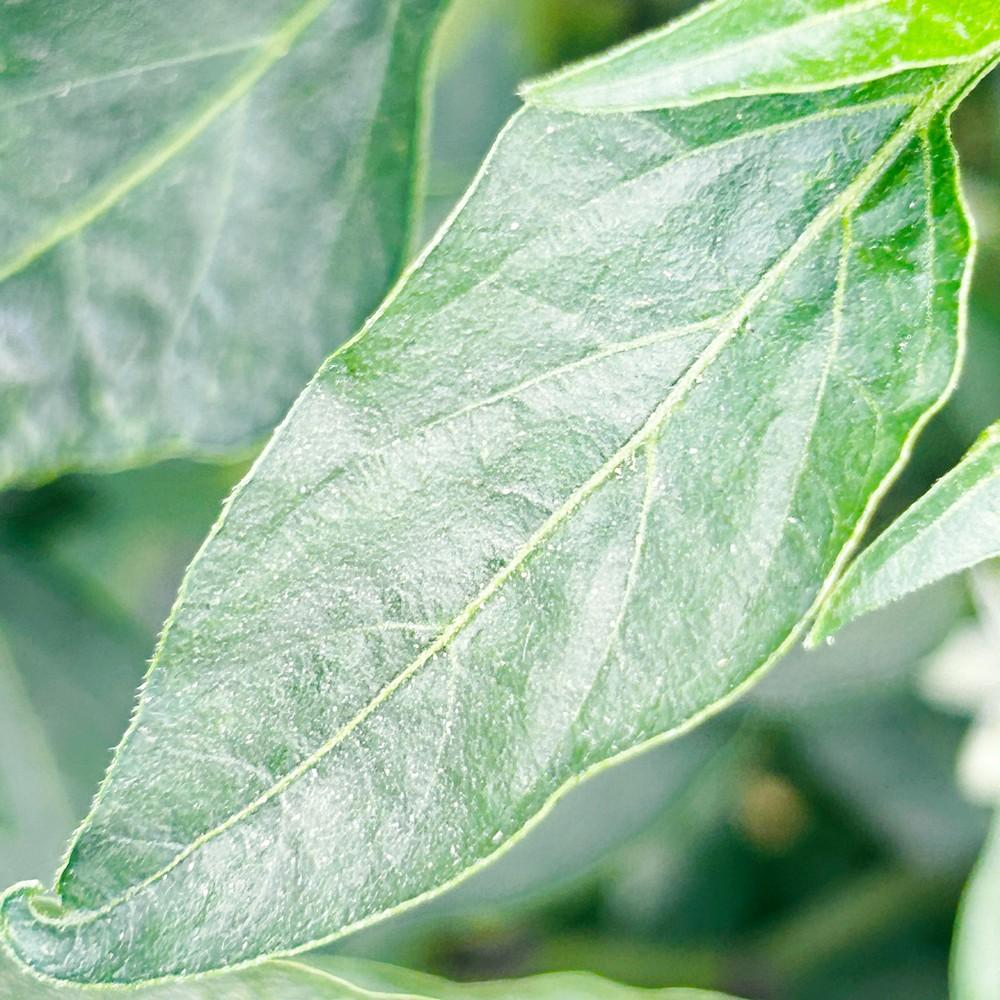Daun Cabai Sehat: (1, 0, 997, 992)
